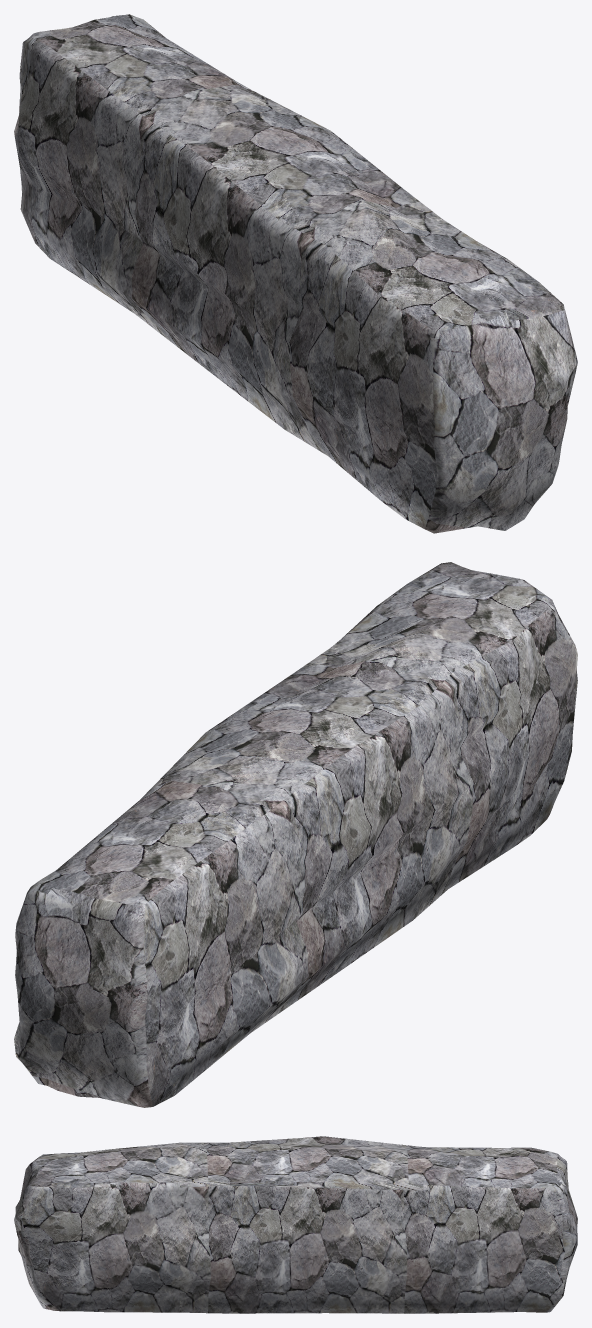
The model's file is RockWall_01.fbx.
3 views of the same model, one above another, from view 1: azimuth 30°, elevation 25°; view 2: azimuth 150°, elevation 25°; view 3: azimuth 270°, elevation 25° (orthographic). The views are drawn at different scales.
Visible parts, largest first — view 1: RockWall1; view 2: RockWall1; view 3: RockWall1.
Part boxes in pixels (x1=…): RockWall1: x1=14, y1=14, x2=577, y2=533; RockWall1: x1=14, y1=562, x2=577, y2=1107; RockWall1: x1=14, y1=1136, x2=577, y2=1313.
Size of the model in its own units: 3.02 by 3.94 by 12.99.
